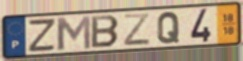4: (188, 7, 213, 44)
B: (90, 14, 121, 50)
M: (54, 14, 93, 52)
Q: (156, 11, 181, 45)
Z: (26, 17, 58, 54), (122, 12, 152, 47)
